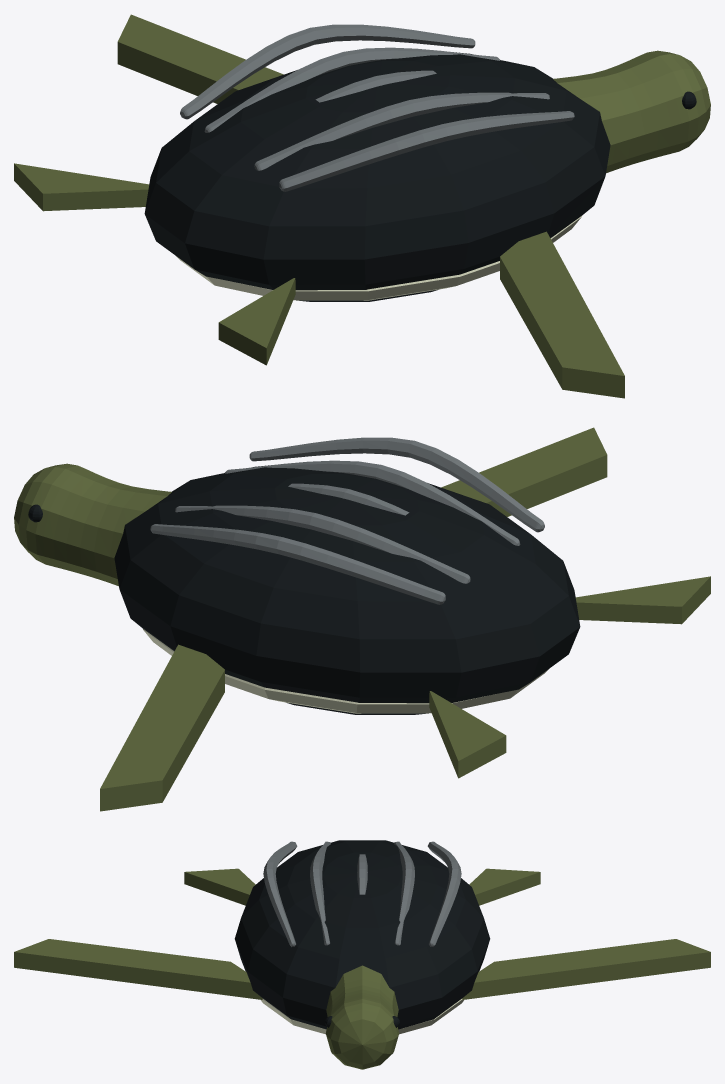
The model's file is leatherback-turtle.dae.
3 renders of one model, top to bottom at view 1: azimuth 30°, elevation 25°; view 2: azimuth 150°, elevation 25°; view 3: azimuth 270°, elevation 25°, orthographic. The views are drawn at different scales.
Parts seen in each view (by area): view 1: part3-node, part1-node, part0-node, part2-node; view 2: part3-node, part1-node, part0-node, part2-node; view 3: part3-node, part1-node, part0-node, part2-node.
Part boxes in pixels (x1=…): part3-node: x1=144, y1=52, x2=696, y2=301; part1-node: x1=14, y1=14, x2=710, y2=398; part0-node: x1=180, y1=24, x2=574, y2=191; part2-node: x1=176, y1=216, x2=581, y2=300; part3-node: x1=28, y1=465, x2=580, y2=714; part1-node: x1=14, y1=427, x2=710, y2=811; part0-node: x1=150, y1=437, x2=544, y2=604; part2-node: x1=143, y1=629, x2=548, y2=713; part3-node: x1=234, y1=840, x2=490, y2=1029; part1-node: x1=14, y1=868, x2=710, y2=1069; part0-node: x1=263, y1=841, x2=461, y2=946; part2-node: x1=261, y1=999, x2=463, y2=1034.
Size of the model in its own units: 1.8 by 2.69 by 0.5808.
